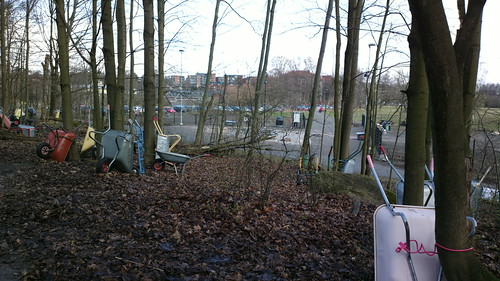pushcart: (91, 109, 135, 179), (38, 114, 79, 163), (150, 143, 205, 173)
vegetation: (1, 1, 500, 281)
